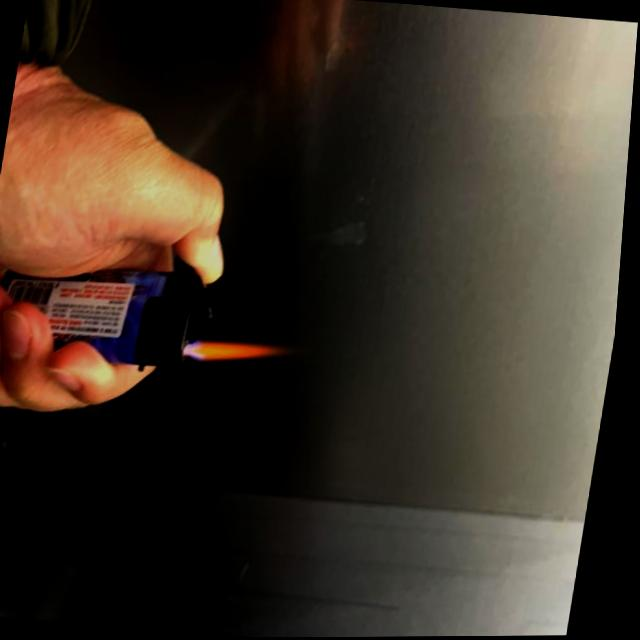Fire: (188, 334, 301, 370)
